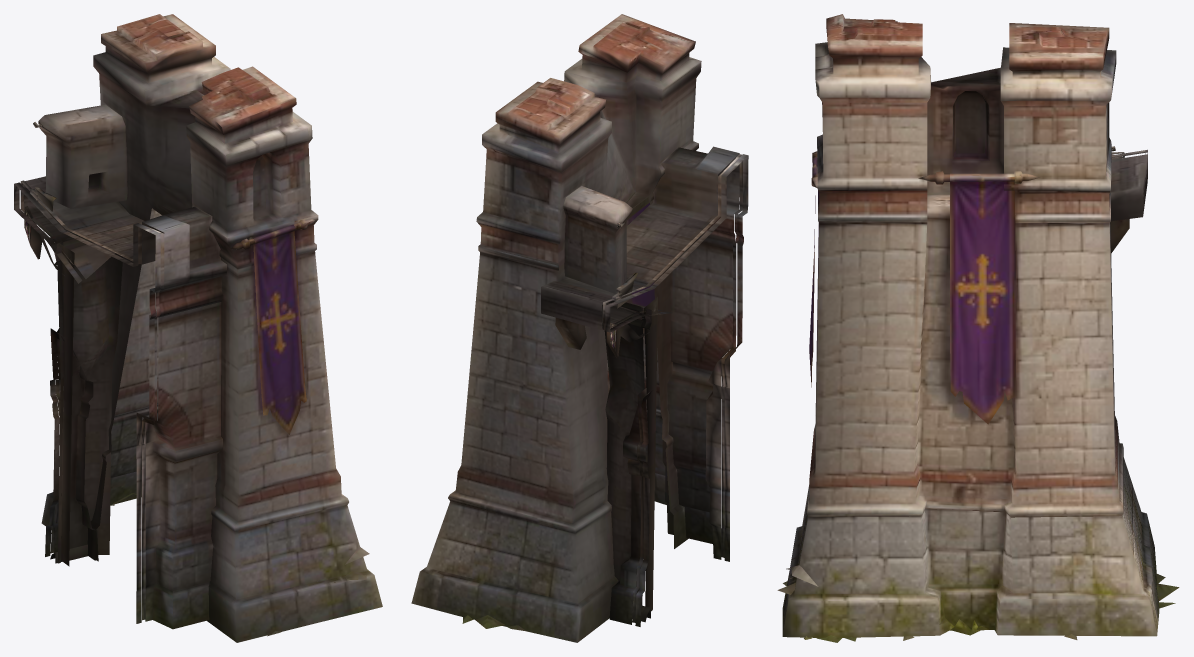
File: WallRunRight_32.fbx
3 views of the same model, side by side, from view 1: azimuth 30°, elevation 25°; view 2: azimuth 150°, elevation 25°; view 3: azimuth 270°, elevation 25° (orthographic). The views are drawn at different scales.
Visible parts, largest first — view 1: Imported wall section.093; view 2: Imported wall section.093; view 3: Imported wall section.093.
Boxes of the visible parts, x1,y1,x2,y2 form: Imported wall section.093: (14, 14, 382, 642); Imported wall section.093: (411, 14, 748, 642); Imported wall section.093: (777, 14, 1179, 642).
Bounding box in the file's own units: 300 × 700 × 453.
Materials: 1 (1 with a texture image).
